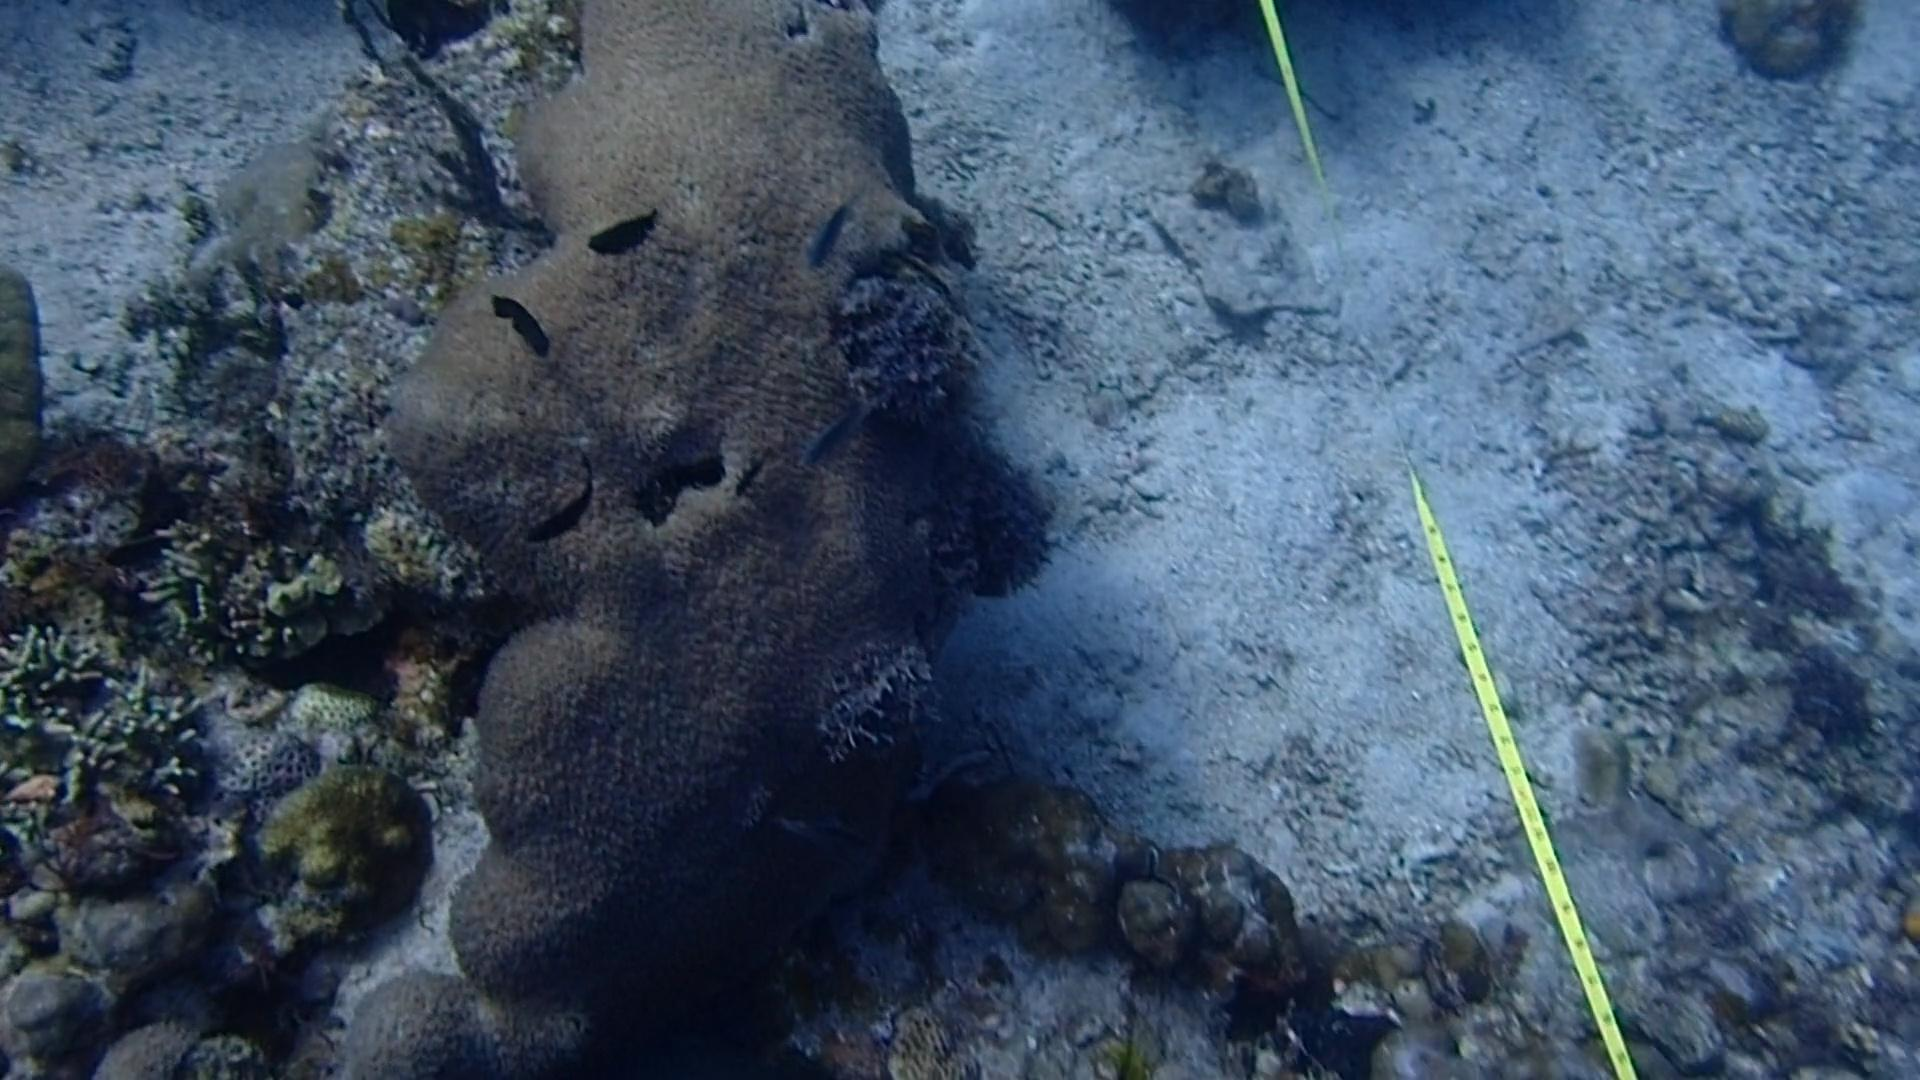Dark Fish: (512, 443, 601, 547), (579, 210, 674, 268), (483, 289, 551, 364), (740, 452, 774, 506)
Light Fish: (783, 381, 897, 475), (761, 799, 873, 862), (803, 186, 853, 268)
